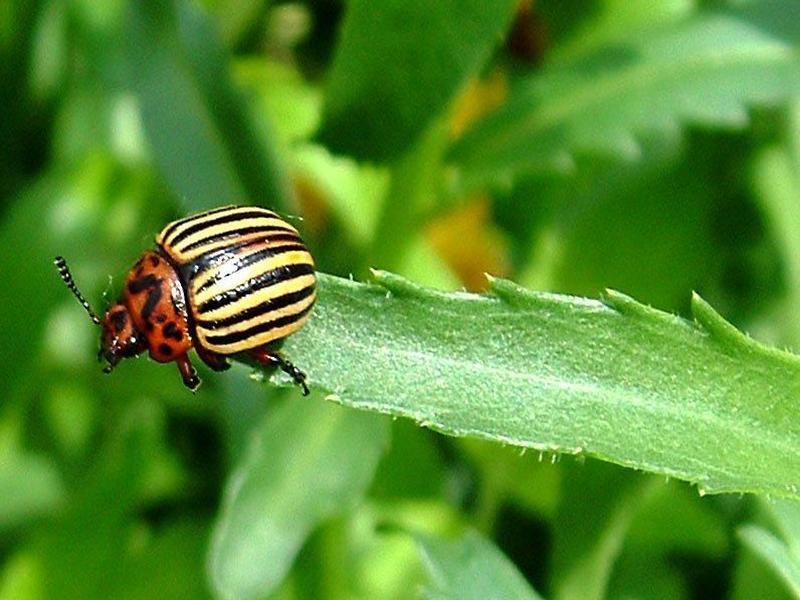hrosc: (81, 203, 333, 387)
